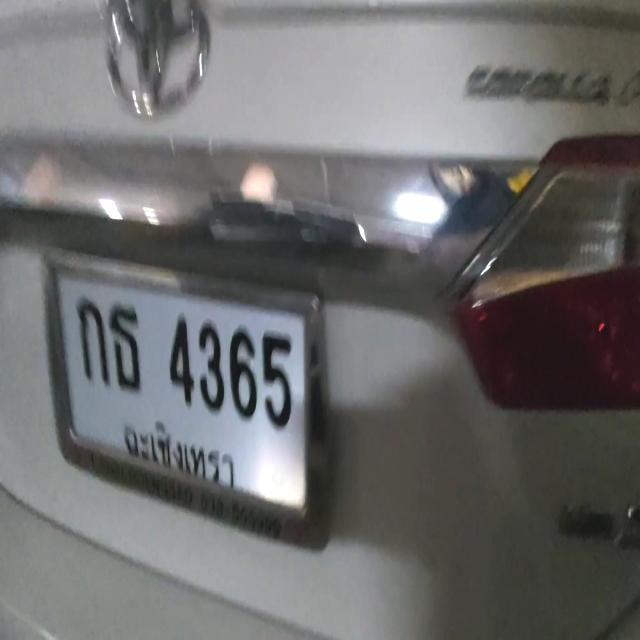license_plate: (54, 269, 306, 511)
